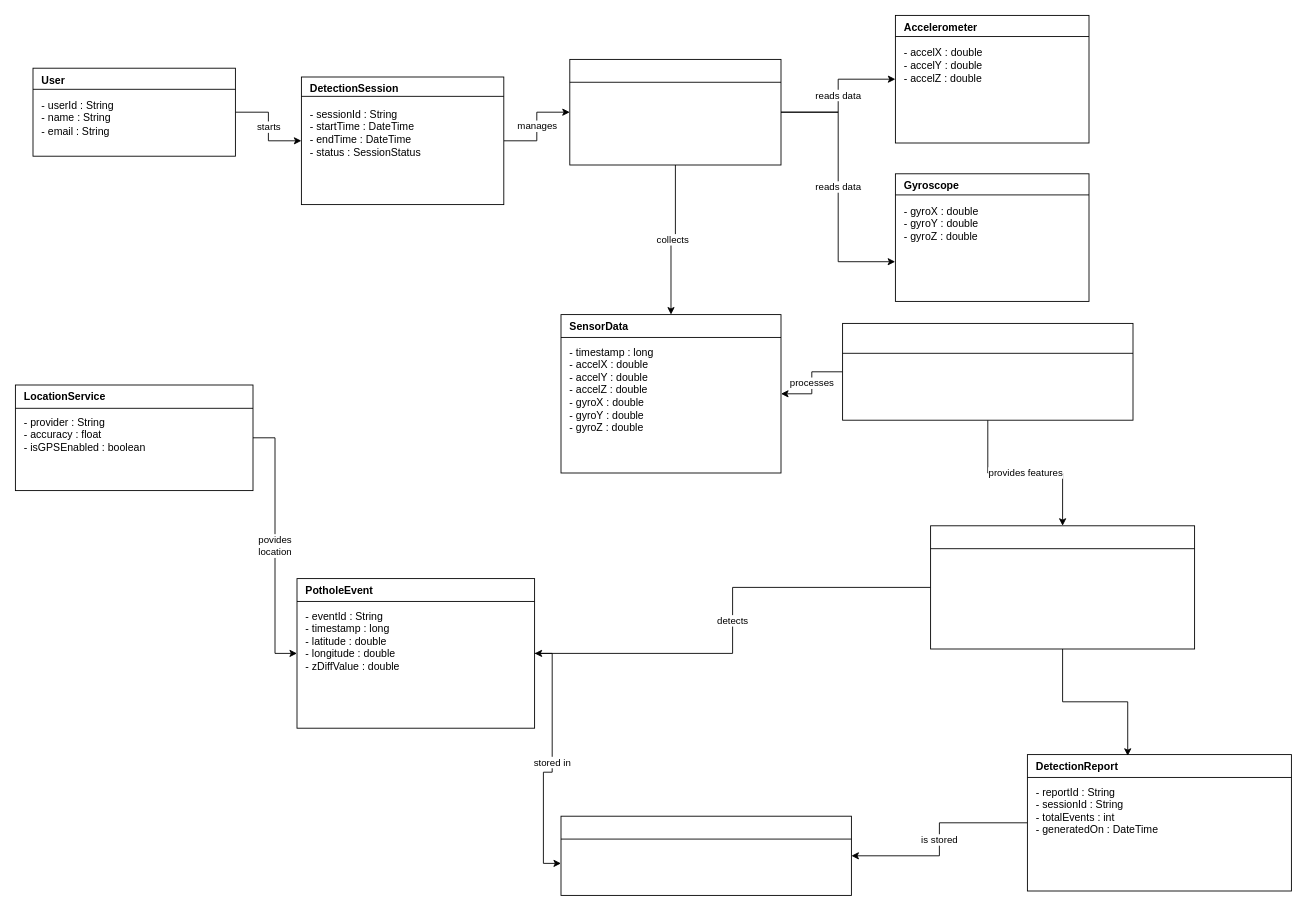
Some shapes in this 1307 by 911 pixel diagram are drawn without their labels. The box of each missing label's shape, as (x1, y1, x2, y2) in pixels:
DataProcessor - filterWindow : int - zDiffThreshold : double: (842, 323, 1133, 420)
LocalDatabase - dbName : String: (560, 815, 851, 895)
PotholeDetector - algorithm : String - threshold : double: (930, 525, 1195, 649)
SensorManager - samplingRate : int - isRecording : boolean: (569, 59, 781, 165)
